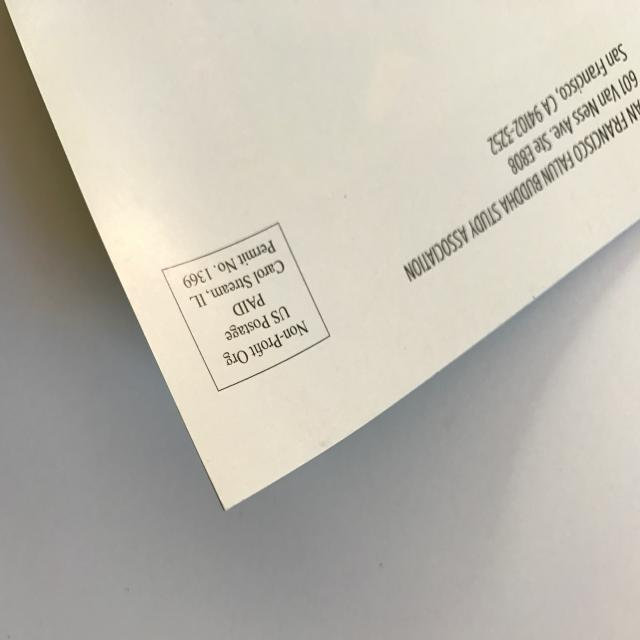paper: (0, 0, 640, 540)
